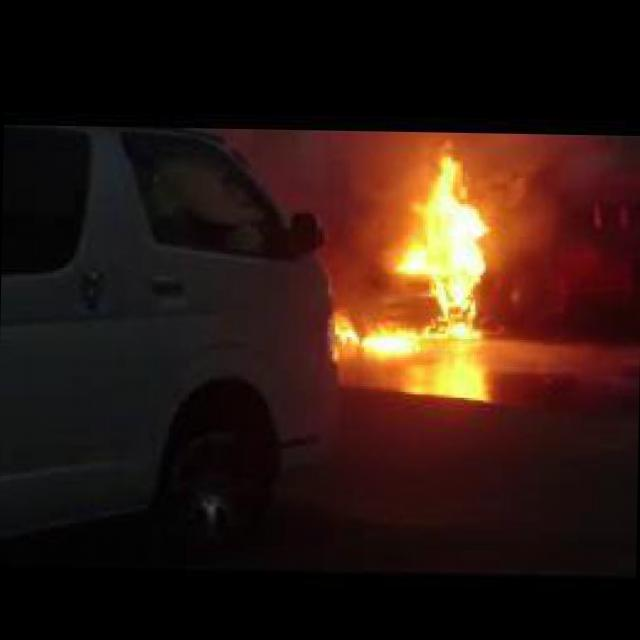fire: (396, 154, 492, 336), (329, 312, 416, 355)
